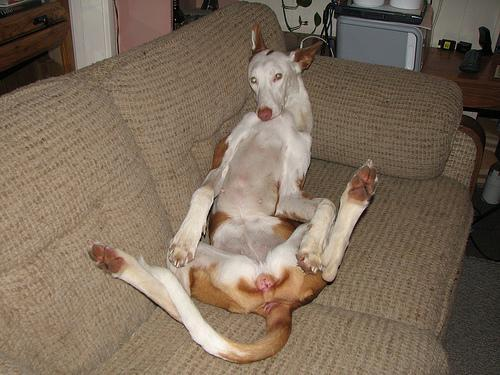Ibizan_hound: (87, 18, 381, 365)
